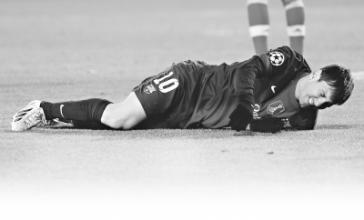Fall-Detected: (10, 36, 346, 136)
